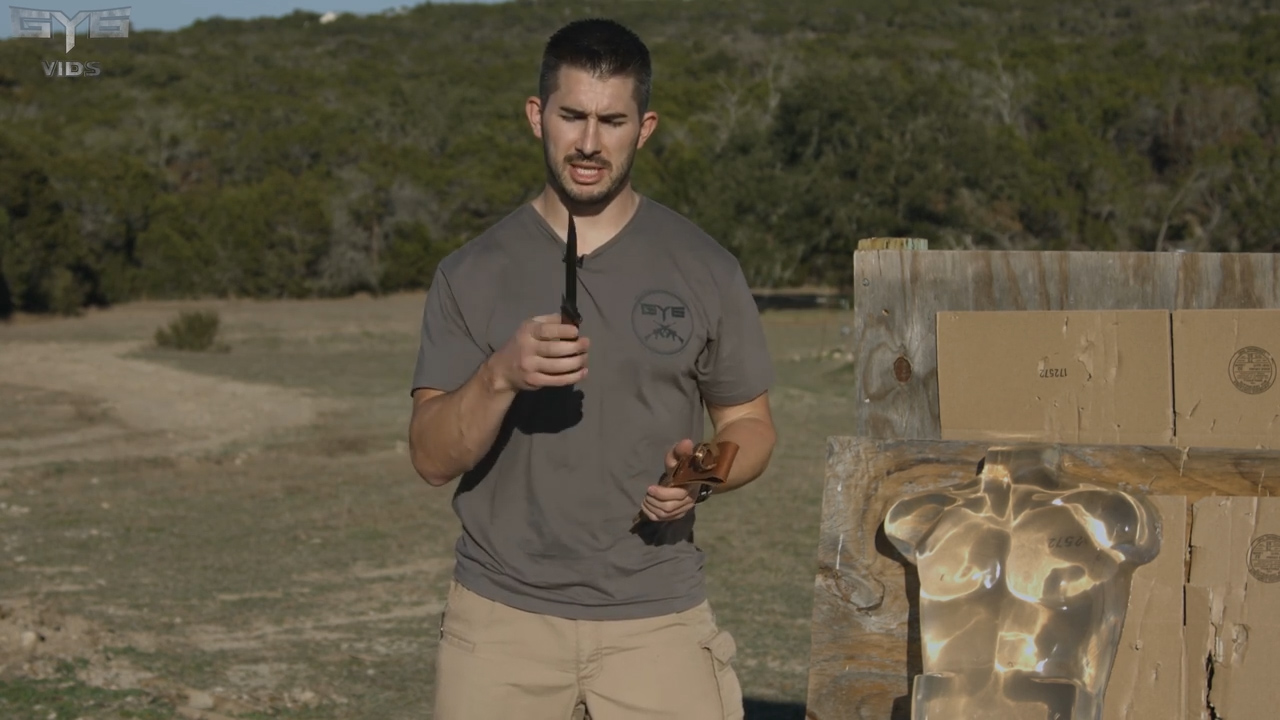knife: (511, 198, 597, 395)
